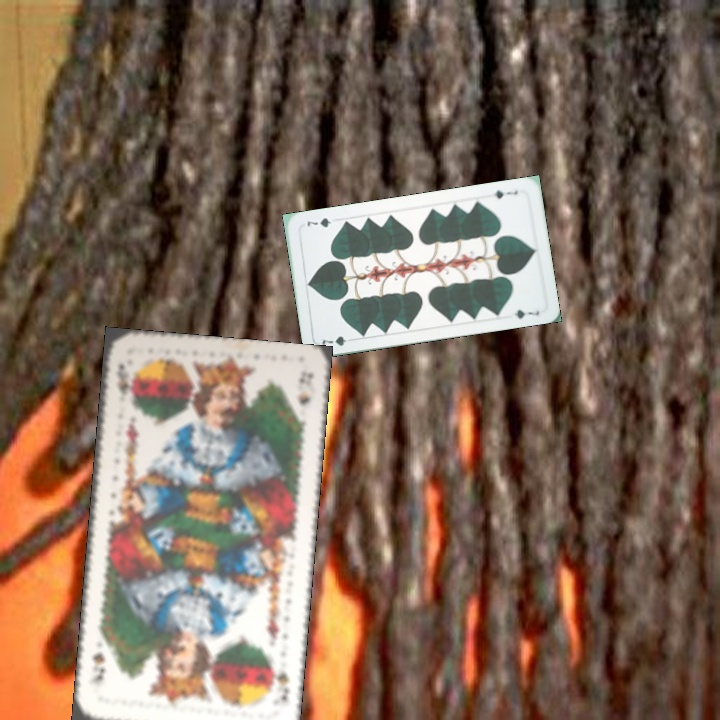G7: (318, 332, 357, 350), (490, 186, 520, 201)
SK: (267, 657, 293, 705), (112, 360, 135, 396)
